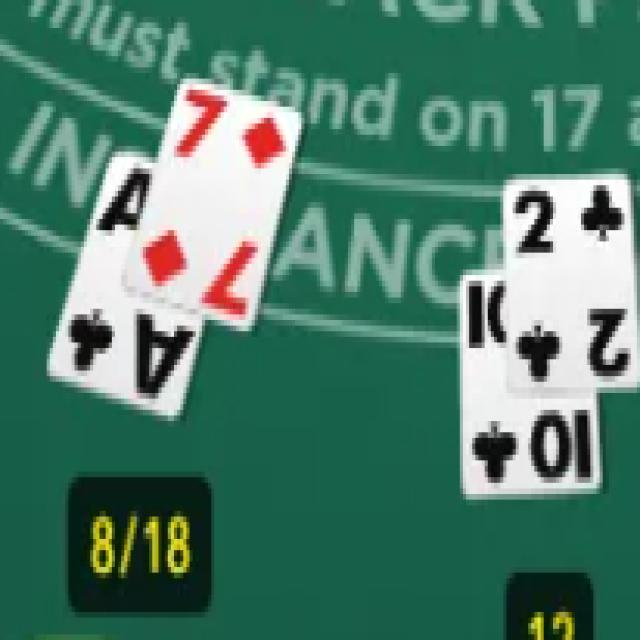Card-10: (461, 272, 602, 495)
Card-2: (507, 179, 637, 388)
Card-7: (129, 72, 301, 332)
Card-A: (45, 144, 207, 417)
